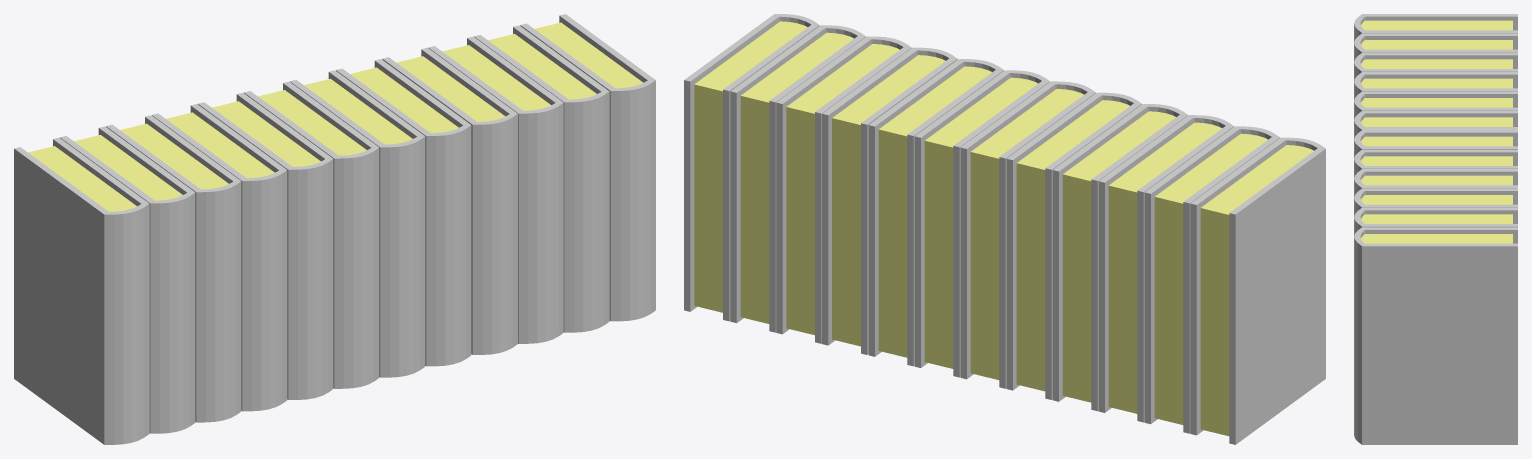
The model's file is books1.fbx.
The picture shows the model from 3 angles, left to right: view 1: azimuth 30°, elevation 25°; view 2: azimuth 150°, elevation 25°; view 3: azimuth 270°, elevation 25°; orthographic projection. The views are drawn at different scales.
Visible parts, largest first — view 1: Box036, Box032, Box029, Box031, Box034, Box038, Box035, Box037, Box030, Box033, Box028, Box027 (+12 smaller); view 2: Box036, Group021, Group020, Group024, Group023, Group018, Group026, Group028, Group027, Group025, Group022, Group019 (+12 smaller); view 3: Box029, Box028, Box037, Box031, Box030, Box033, Box036, Box027, Box032, Box034, Box035, Box038 (+12 smaller).
Boxes of the visible parts, x1,y1,x2,y2 form: Box036: (14,137,149,444); Box032: (382,47,517,354); Box029: (520,14,655,321); Box031: (336,59,471,366); Box034: (198,93,333,399); Box038: (106,115,241,422); Box035: (244,81,379,388); Box037: (60,126,195,433); Box030: (290,70,425,377); Box033: (152,104,287,411); Box028: (474,25,609,332); Box027: (428,36,563,343); Box036: (1190,137,1325,444); Group021: (878,66,991,357); Group020: (924,77,1037,368); Group024: (1016,100,1129,391); Group023: (1062,111,1176,402); Group018: (740,32,853,323); Group026: (1200,145,1313,436); Group028: (1108,122,1221,413); Group027: (1154,133,1267,424); Group025: (970,89,1083,379); Group022: (832,55,945,346); Group019: (694,21,807,312); Box029: (1354,227,1517,444); Box028: (1354,207,1517,235); Box037: (1354,33,1517,61); Box031: (1354,149,1517,177); Box030: (1354,130,1517,158); Box033: (1354,72,1517,100); Box036: (1354,14,1517,42); Box027: (1354,188,1517,216); Box032: (1354,169,1517,197); Box034: (1354,91,1517,119); Box035: (1354,110,1517,138); Box038: (1354,52,1517,80).
Size of the model in its own units: 8.72 by 3.48 by 2.6.
